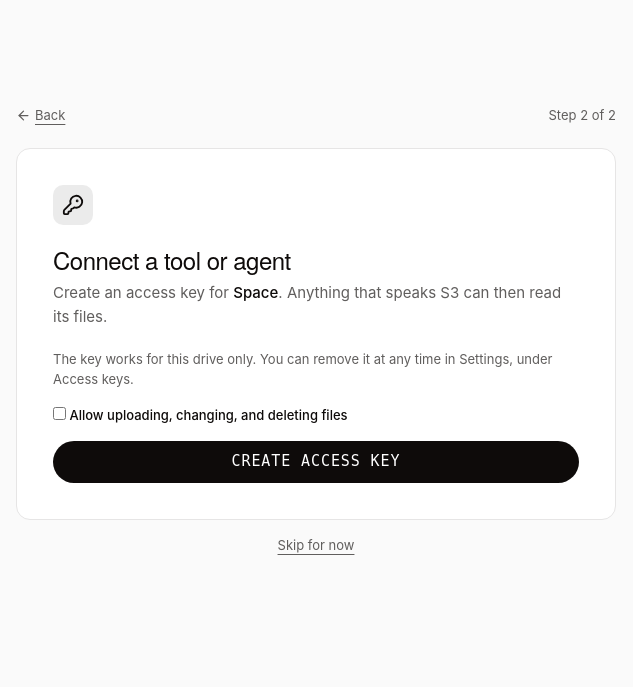
Test case: with an agent or S3 tool › explains a refused key in plain words and lets the person try again
Click the button "Create access key" at x=316, y=462, box left=53, top=441, right=579, bottom=483
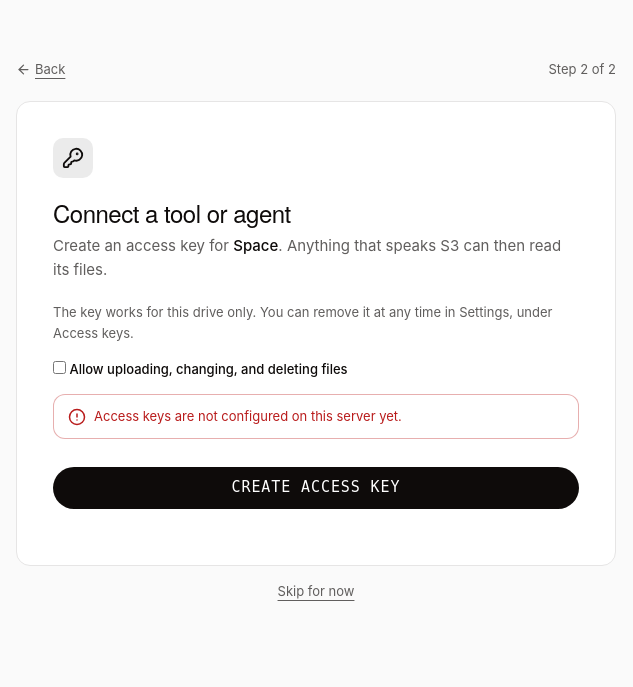
Expected: the button "Skip for now" is shown, left=278, top=582, right=354, bottom=601
Expected: the message reads "Access keys are not configured on this server yet.", left=94, top=408, right=402, bottom=424
Click the button "Create access key" at x=316, y=488, box left=53, top=467, right=579, bottom=509
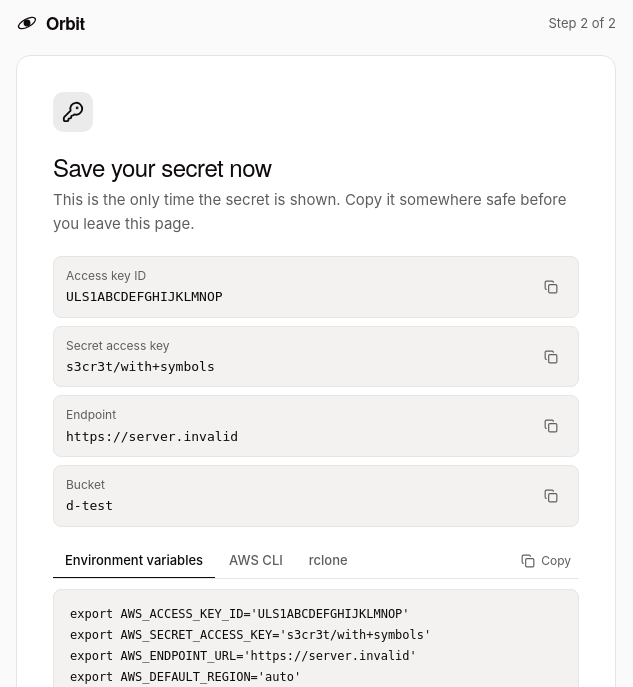
Expected: the heading "Save your secret now" is shown, left=53, top=149, right=272, bottom=184
